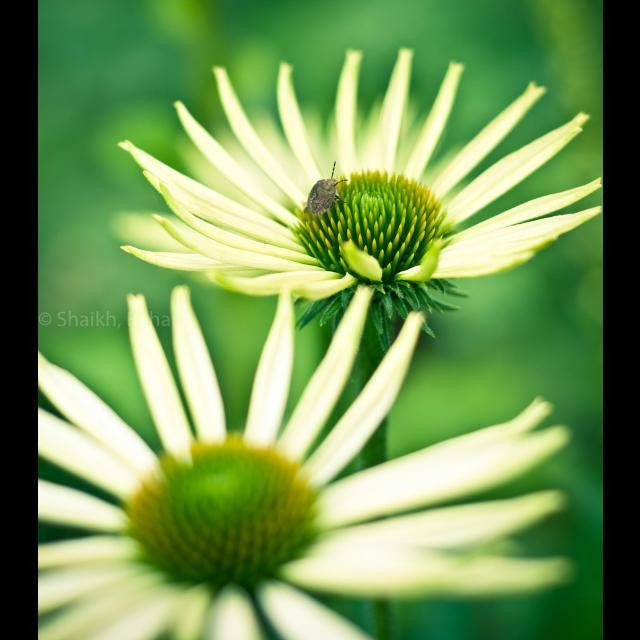Flower: (38, 282, 574, 640), (110, 47, 602, 346)
